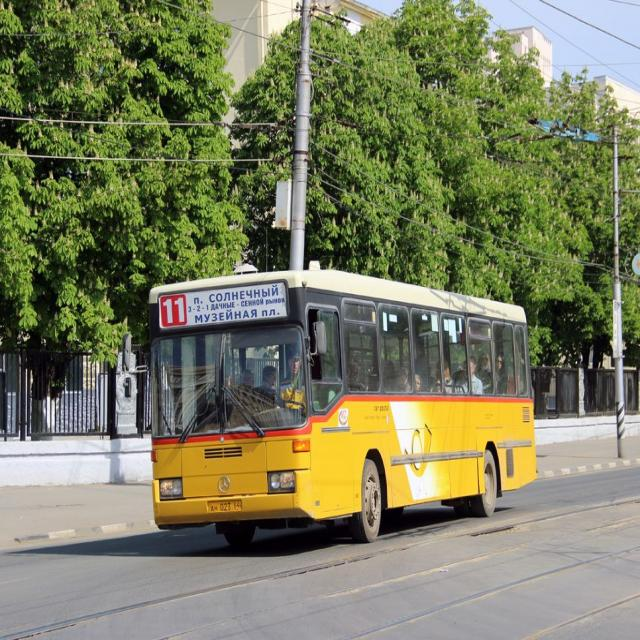number-of-bus: (162, 298, 188, 327)
